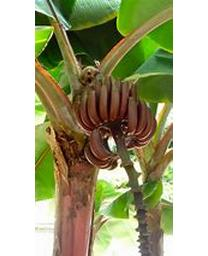banana: (71, 79, 159, 171)
